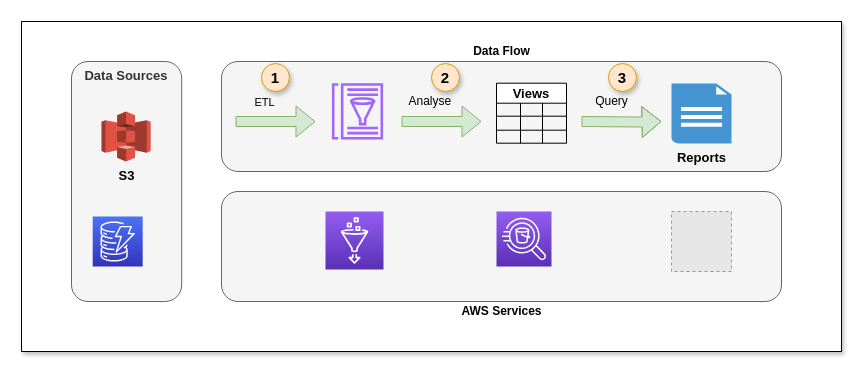
The diagram is 865 pixels wide and 376 high, and some of its shapes have lost their labels. Grey dashed boxes stand in for pictures. The centre of each missing label's shape, as x and y in pixels:
AWS Athena: the point at 524,238
AWS Glue: the point at 354,240
Data Catalog: the point at 357,111
Dynamodb: the point at 117,241
